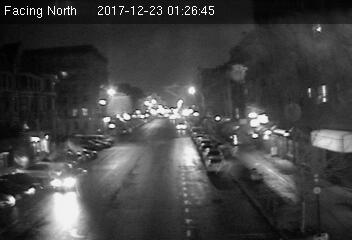car: (46, 166, 89, 193), (207, 156, 227, 175)
